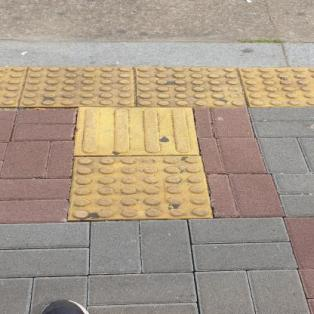Podoctatil: (0, 63, 313, 226)
